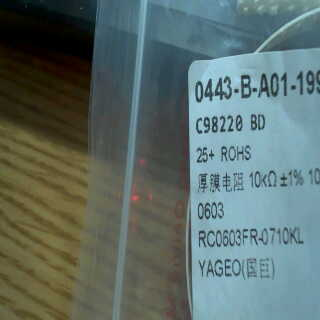10kR: (247, 166, 279, 193)
